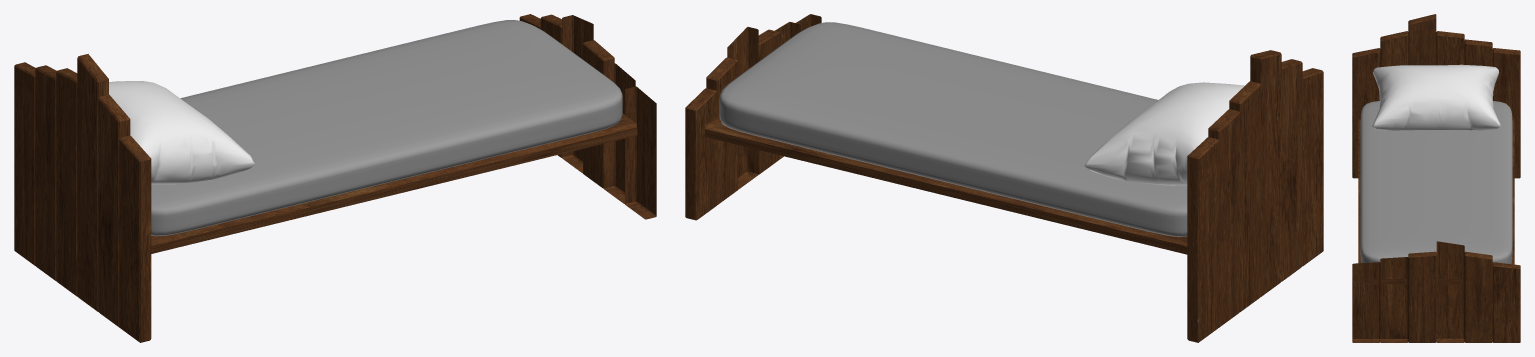
The model's file is cama.fbx.
3 renders of one model, left to right at view 1: azimuth 30°, elevation 25°; view 2: azimuth 150°, elevation 25°; view 3: azimuth 270°, elevation 25°, orthographic. The views are drawn at different scales.
Visible parts, largest first — view 1: mattress, bed_sides, pillow, support; view 2: mattress, bed_sides, pillow, support; view 3: bed_sides, mattress, pillow, support.
Part boxes in pixels (left/top/right/bottom): mattress: left=151, top=20, right=622, bottom=236; bed_sides: left=14, top=14, right=656, bottom=342; pillow: left=109, top=81, right=255, bottom=184; support: left=151, top=113, right=637, bottom=253; mattress: left=719, top=22, right=1187, bottom=236; bed_sides: left=685, top=14, right=1323, bottom=342; pillow: left=1084, top=82, right=1244, bottom=185; support: left=705, top=115, right=1187, bottom=254; bed_sides: left=1352, top=14, right=1520, bottom=342; mattress: left=1360, top=101, right=1512, bottom=264; pillow: left=1372, top=64, right=1500, bottom=130; support: left=1358, top=119, right=1514, bottom=284.
Bounding box in the file's own units: 213 × 95 × 90.
